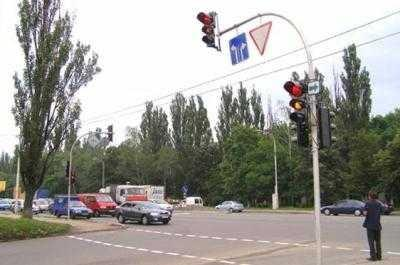red: (286, 78, 308, 98)
